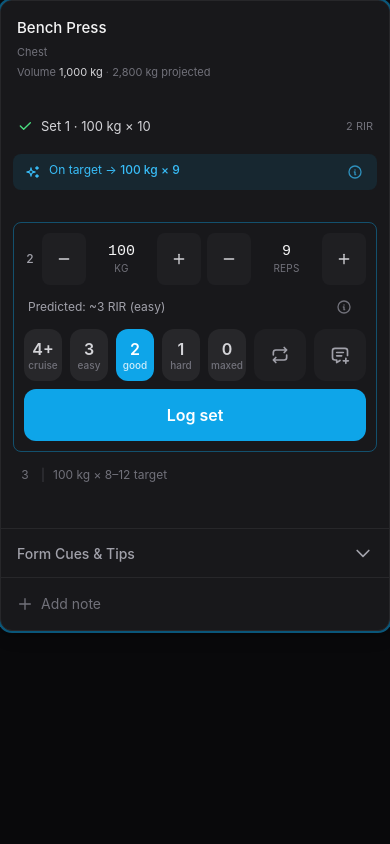
ExerciseCard › Weight-edit reps recompute (field-edit rules) › recomputes reps from the suggestion e1RM when the weight is edited
Expected: the button with aria-label "Reps: 9 reps" is shown, [253, 233, 320, 285]
Click the button with aria-label "Weight: 100 kg".
click(122, 259)  # box [88, 233, 155, 285]
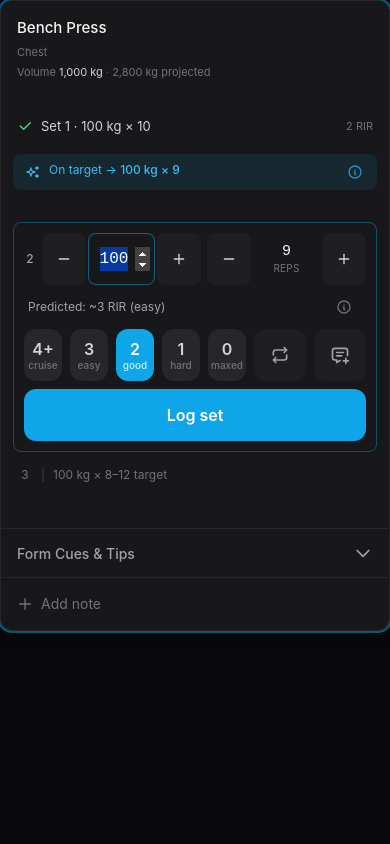
Replace the text in the number field named "Weight" with "90" at [122, 259], box [88, 233, 155, 285]
Wait 450 ms
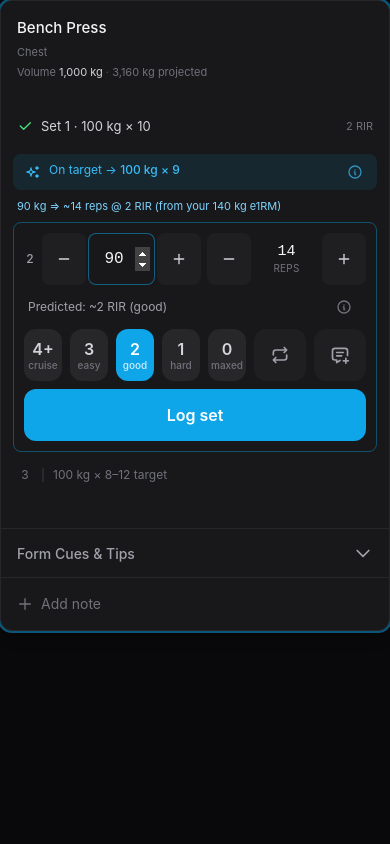
Expected: the button with aria-label "Reps: 14 reps" is shown, [253, 233, 320, 285]
